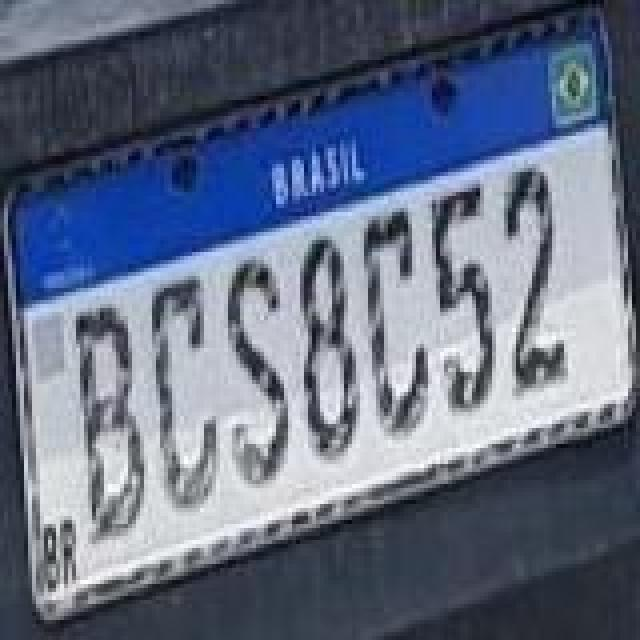2: (504, 164, 568, 396)
5: (432, 180, 496, 412)
8: (298, 236, 358, 460)
B: (70, 298, 146, 534)
C: (148, 274, 220, 510), (362, 202, 430, 438)
S: (224, 254, 288, 482)
